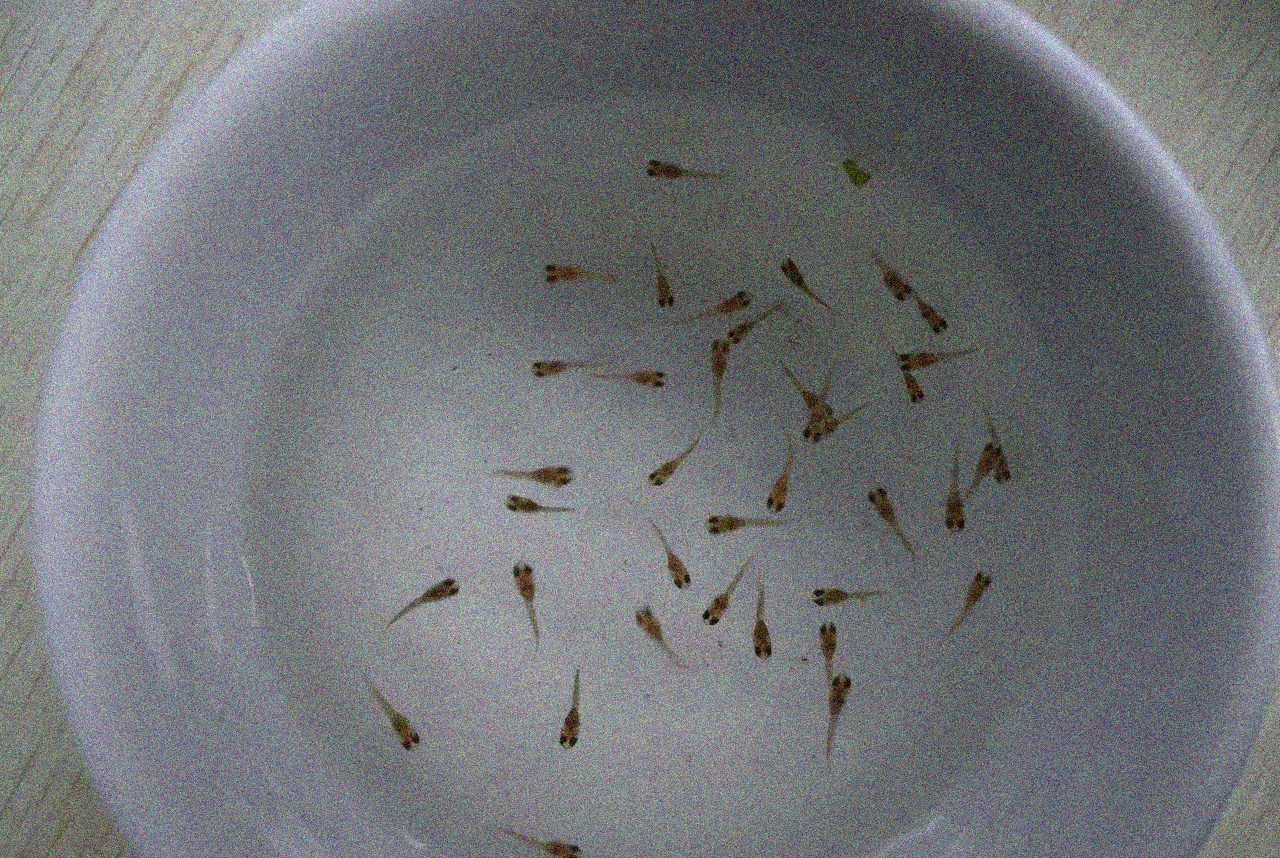fry: (550, 670, 600, 763), (359, 686, 424, 753), (642, 524, 698, 600), (635, 147, 736, 188), (859, 478, 915, 546), (628, 593, 685, 659), (535, 250, 620, 293), (390, 572, 466, 618), (684, 504, 774, 542), (505, 550, 546, 632), (508, 345, 601, 381), (774, 249, 832, 305), (869, 246, 923, 305), (509, 820, 592, 858), (955, 561, 996, 635), (890, 341, 981, 374), (943, 443, 973, 542), (636, 438, 689, 493), (704, 332, 735, 420), (757, 450, 796, 519), (802, 613, 844, 677), (493, 491, 579, 522), (698, 562, 735, 632), (644, 250, 681, 319), (492, 462, 578, 491), (970, 431, 1001, 508), (992, 434, 1027, 496), (751, 592, 778, 668), (617, 358, 675, 393), (698, 285, 755, 320), (808, 581, 874, 611), (912, 293, 952, 341), (824, 668, 851, 739), (779, 365, 821, 409), (897, 374, 931, 409), (796, 417, 828, 447)
